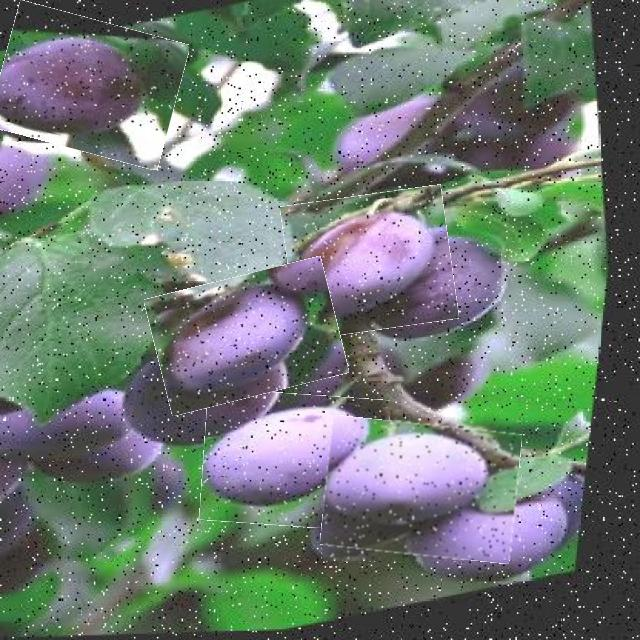plum: (0, 9, 182, 160), (323, 420, 519, 560), (150, 266, 344, 406), (201, 391, 388, 529), (285, 190, 455, 335)
